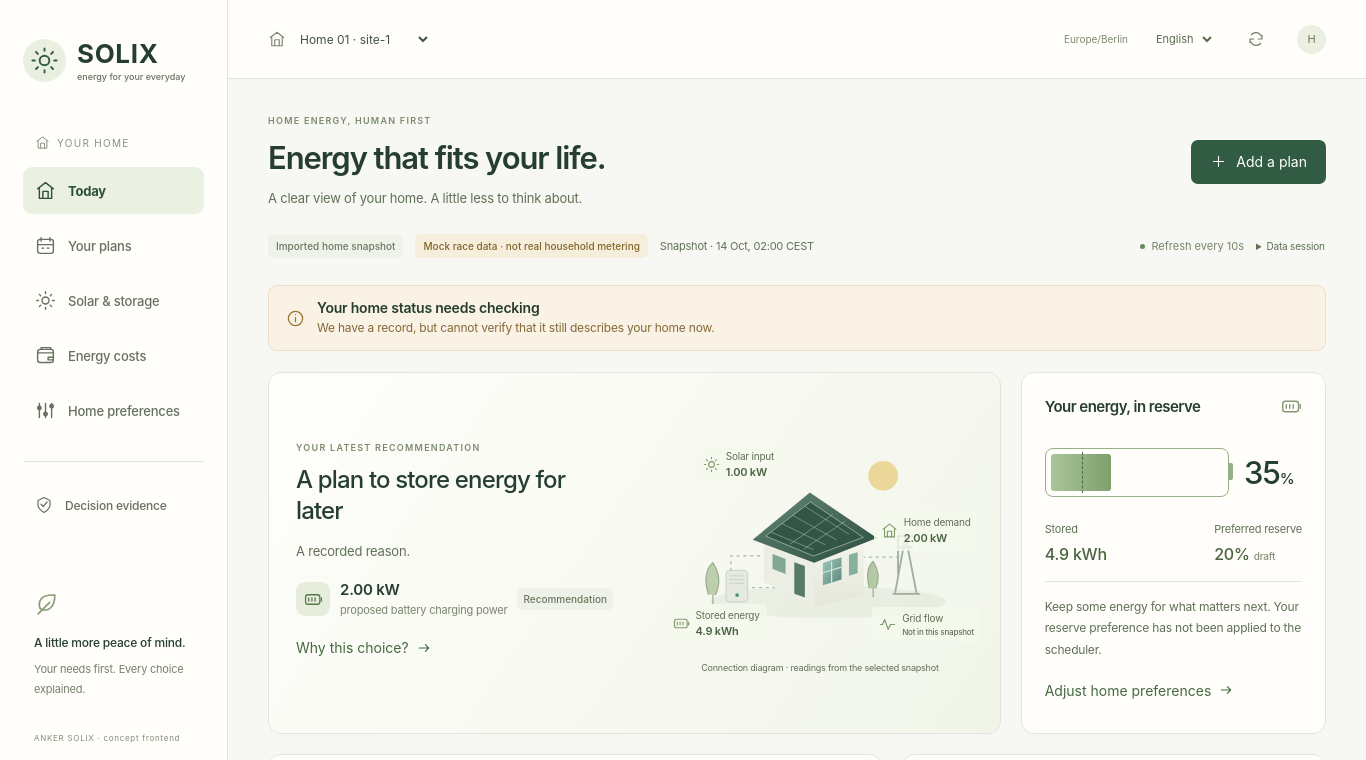
Test: Household-first experience › labels a pending simulator source without guessing from the run name
This screenshot has width=1366, height=760.
Expected: the text "A recorded reason." is shown, [296,543,410,559]
Expected: the button "Add a plan" is enabled, [1191,140,1326,184]
Select "中文" in the dropdown named "Language / 语言" next to "Europe/Berlin" at coordinates (1181, 39), box [1147,23,1215,55]
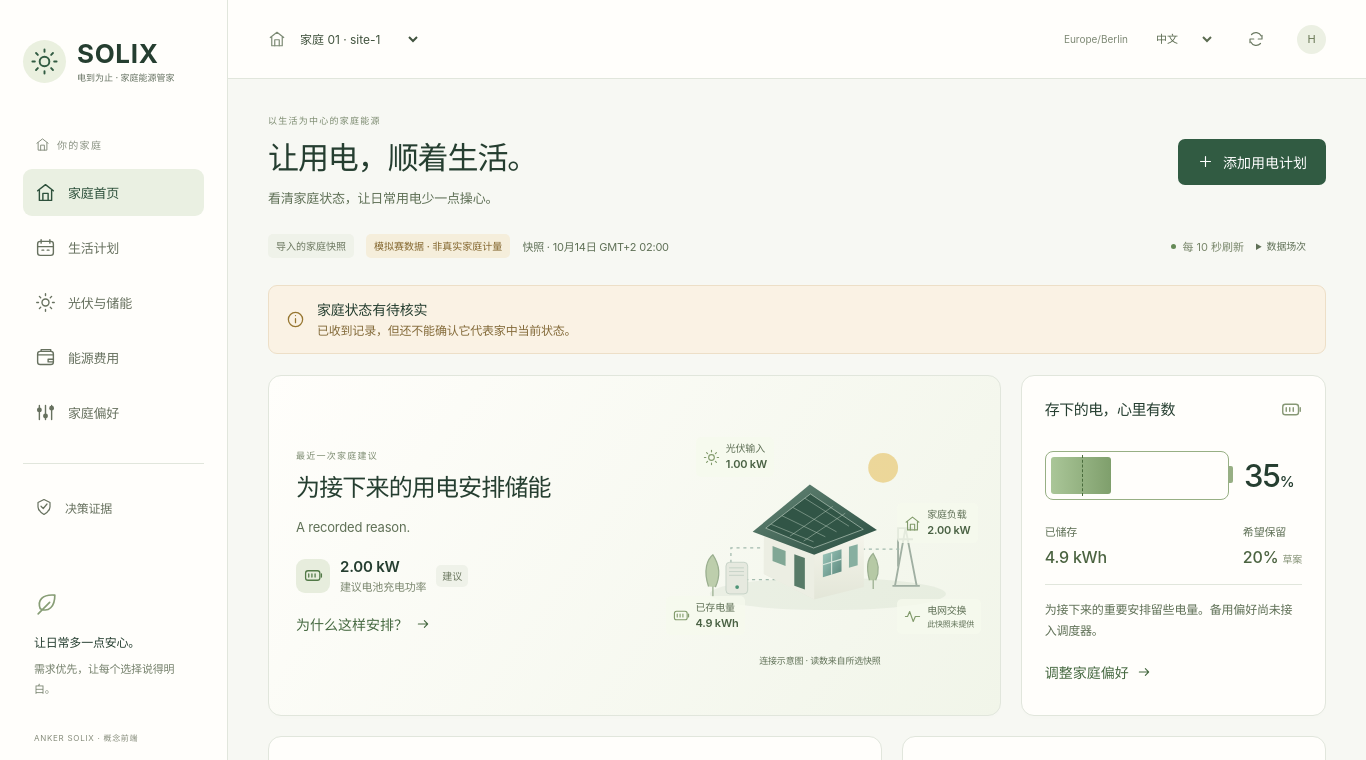
Expected: the text "模拟赛数据 · 非真实家庭计量" is shown, [366,234,510,258]
